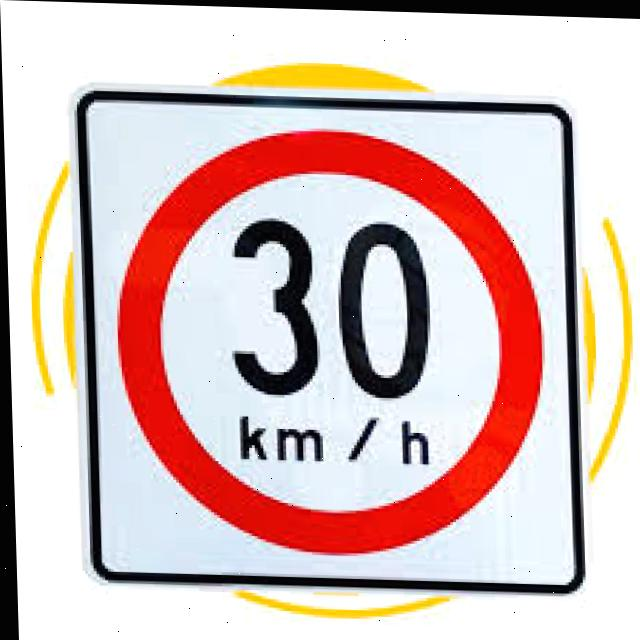Speed limit 30: (108, 120, 552, 567)
